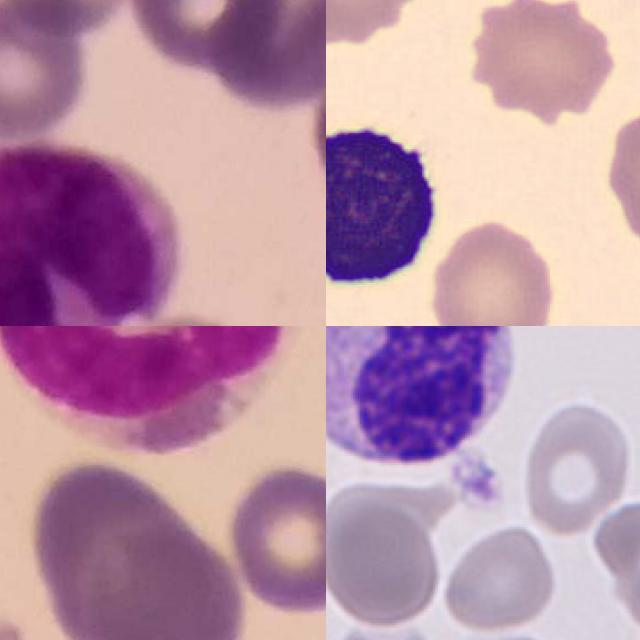Eosinophil: (0, 326, 309, 451)
Lymphocyte: (326, 326, 529, 490), (326, 108, 448, 304)
Monocyte: (0, 142, 181, 326)
RBC: (326, 418, 498, 640), (517, 396, 638, 536), (326, 484, 441, 626), (423, 212, 560, 326), (440, 522, 561, 636), (599, 92, 640, 288), (589, 495, 640, 630), (326, 612, 443, 640), (438, 630, 580, 640)
